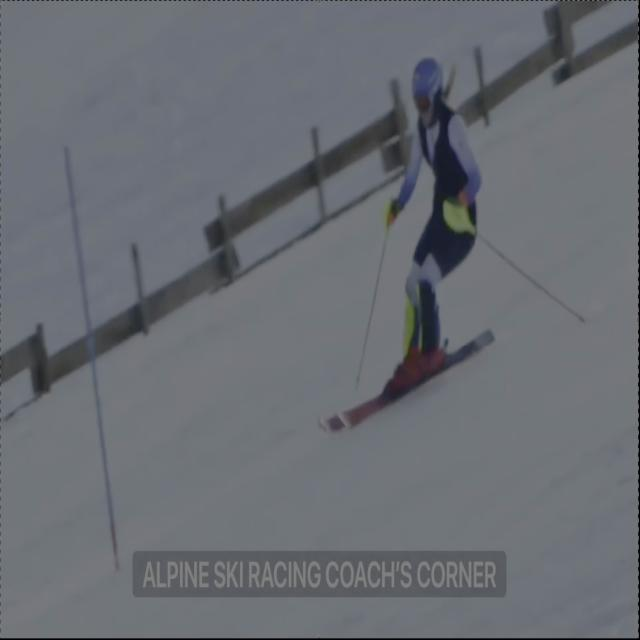gate: (55, 139, 123, 588)
